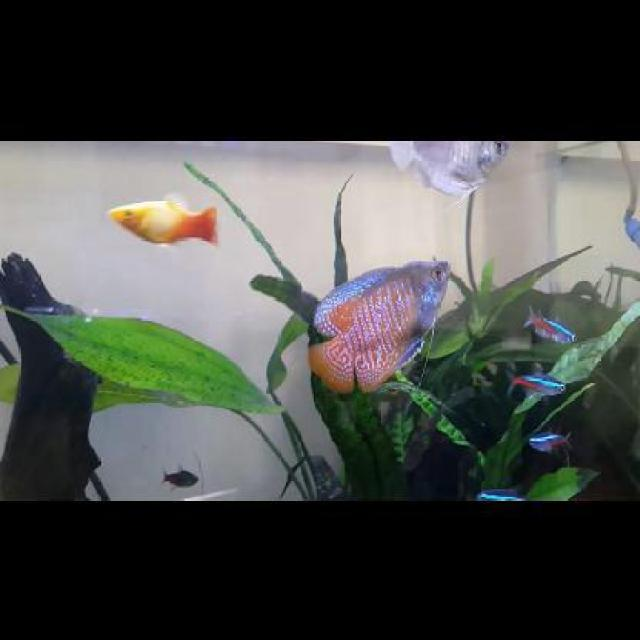Gourami: (308, 258, 452, 394)
